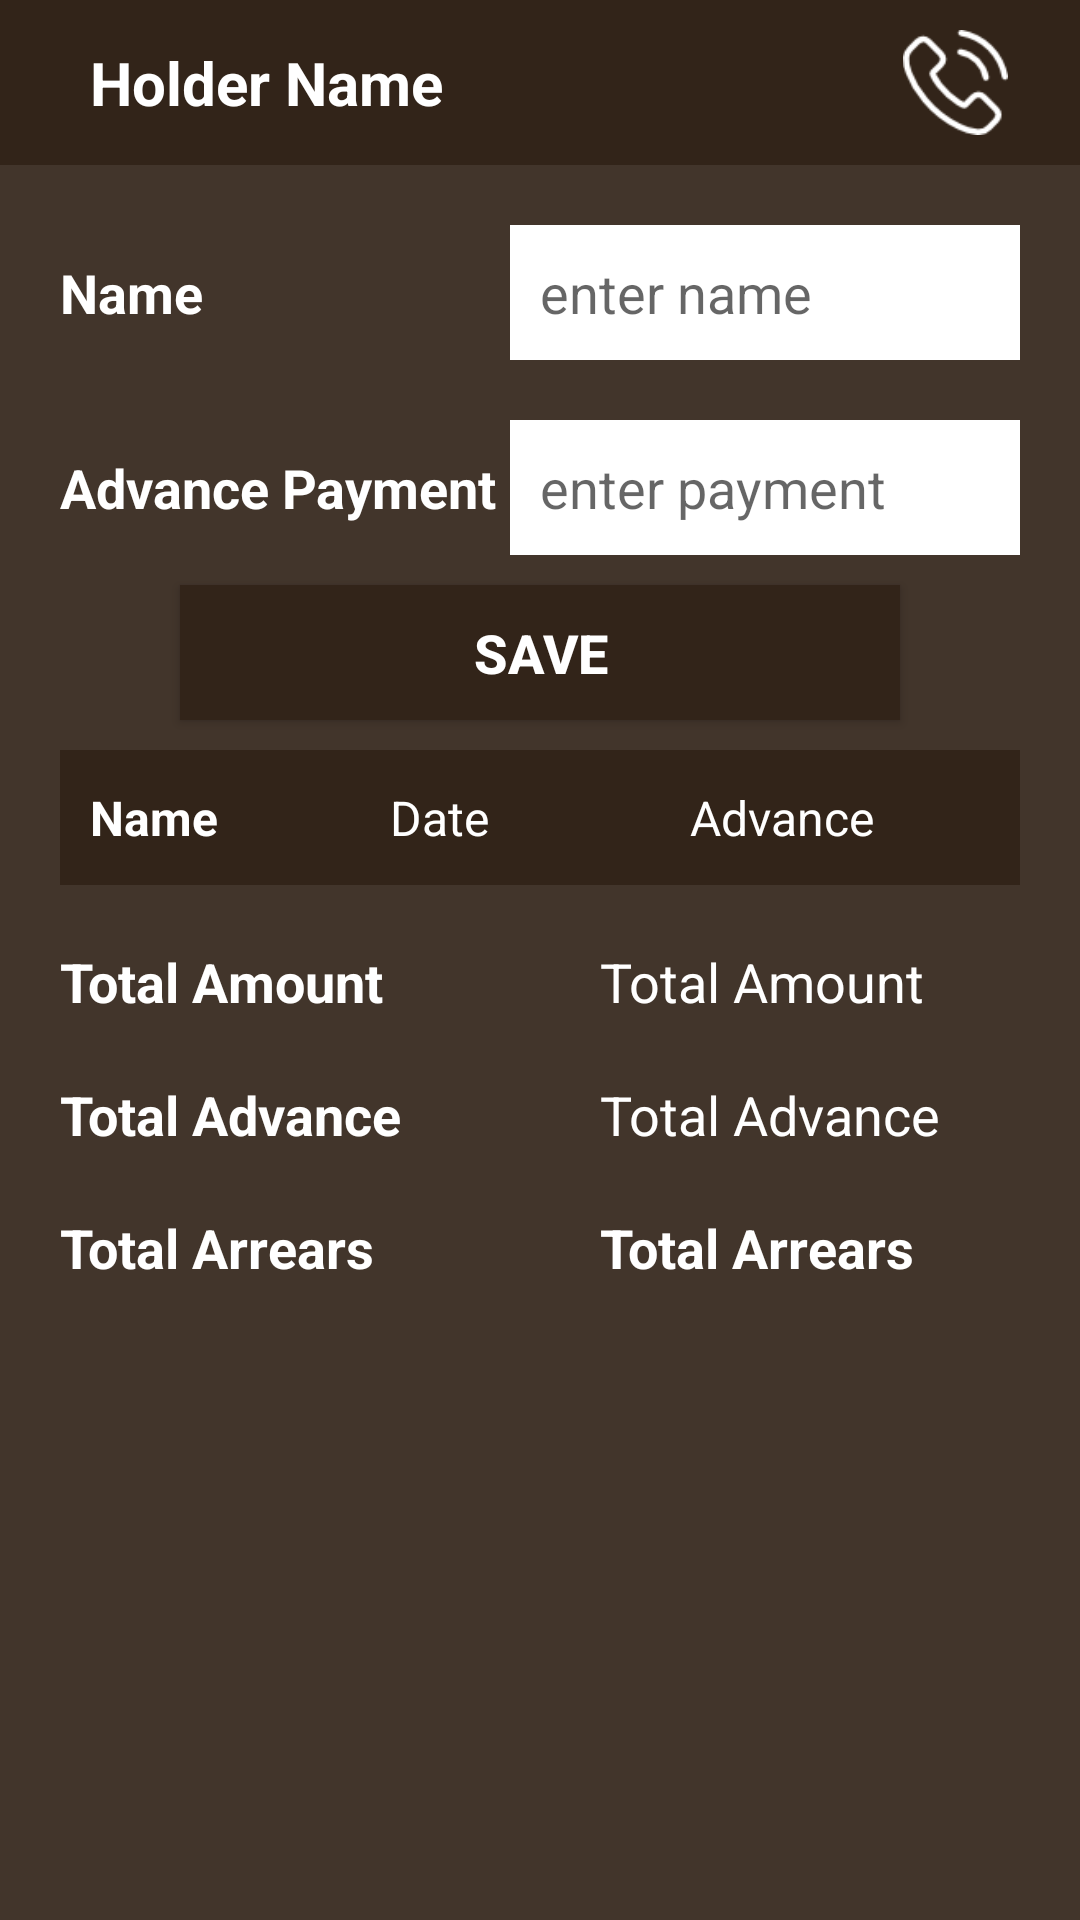

Icon click points for this 1080px×1920px phone screenshot, format (x=x, y=y):
call: (x=955, y=82)
